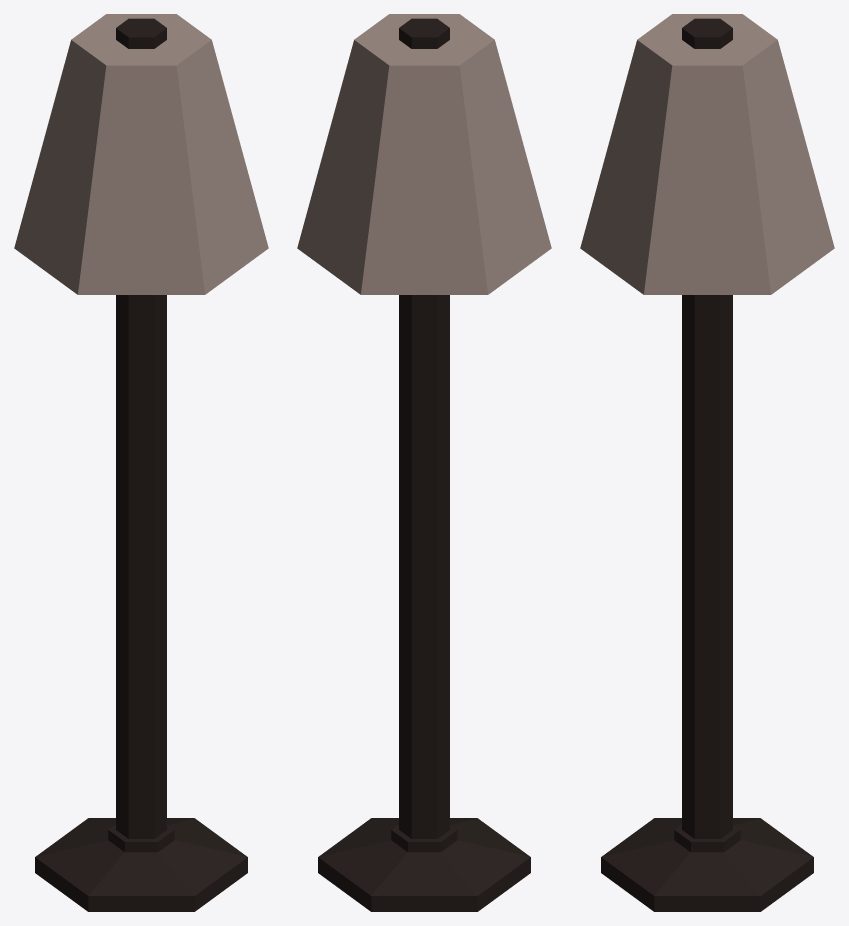
File: LAMP.fbx
The picture shows the model from 3 angles, left to right: view 1: azimuth 30°, elevation 25°; view 2: azimuth 150°, elevation 25°; view 3: azimuth 270°, elevation 25°; orthographic projection.
Parts seen in each view (by area): view 1: Circle.007; view 2: Circle.007; view 3: Circle.007.
Boxes of the visible parts, <box> form: Circle.007: <box>14,14,268,911</box>; Circle.007: <box>297,14,551,911</box>; Circle.007: <box>580,14,834,911</box>.
Size of the model in its own units: 207 by 876 by 239.
